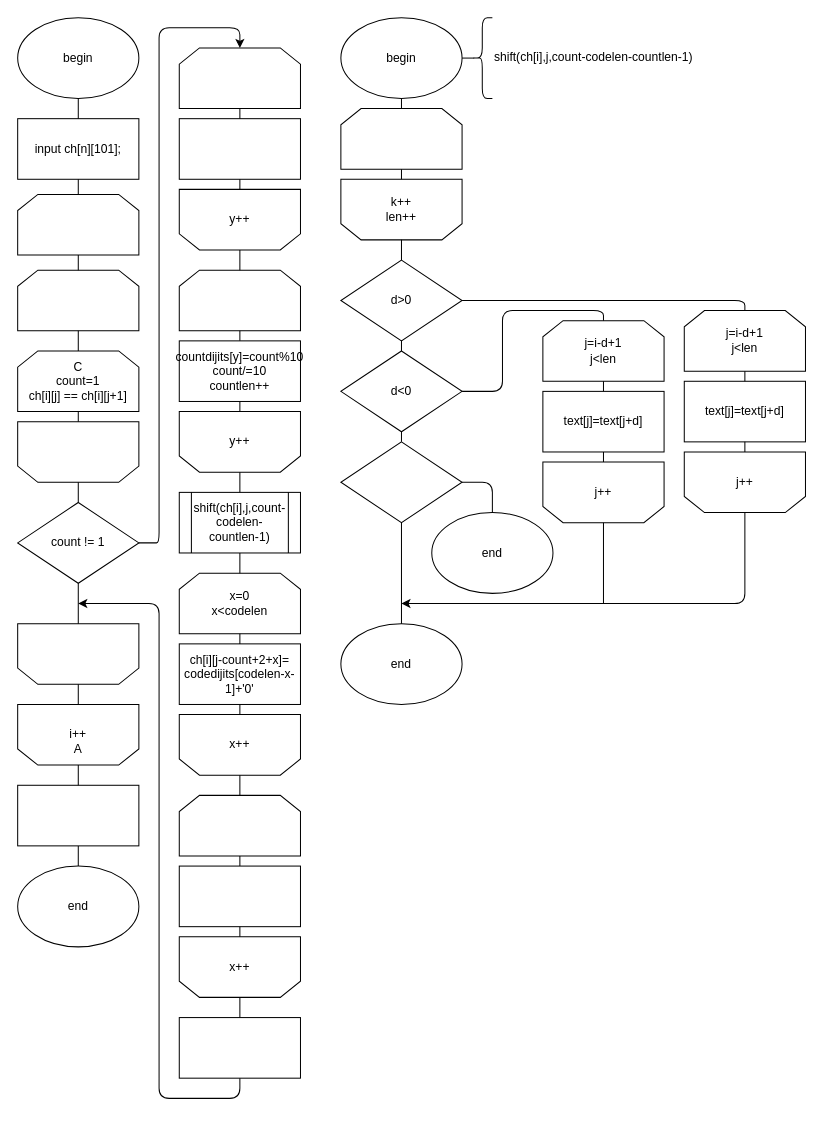
The diagram is 823 pixels wide and 1124 high, and some of its shapes have lost their labels. Each missing label, with the centre of its shape:
"A i=0 i<n" goes at pixel 78 224.
"B j=0 ch[i][j] != '\0'" goes at pixel 78 300.
"ch[i][j-count+2+x+codelen]= countdijits[countlen-x-1]+'0'" goes at pixel 239 896.
"codedijits[y]=code%10 code/=10 codelen++" goes at pixel 239 148.
"d==0" goes at pixel 401 482.
"j++ B" goes at pixel 78 653.
"j++ count++ C" goes at pixel 78 451.
"j=0 j<100 && cj[i][j] !='\0'" goes at pixel 401 138.
"j=j-(count-codelen-countlen)+1" goes at pixel 239 1047.
"output ch[n][101]" goes at pixel 78 815.
"x=0 x<countlen" goes at pixel 239 825.
"y=0 code != 0" goes at pixel 239 78.
"y=0 countcopy != 0" goes at pixel 239 300.
